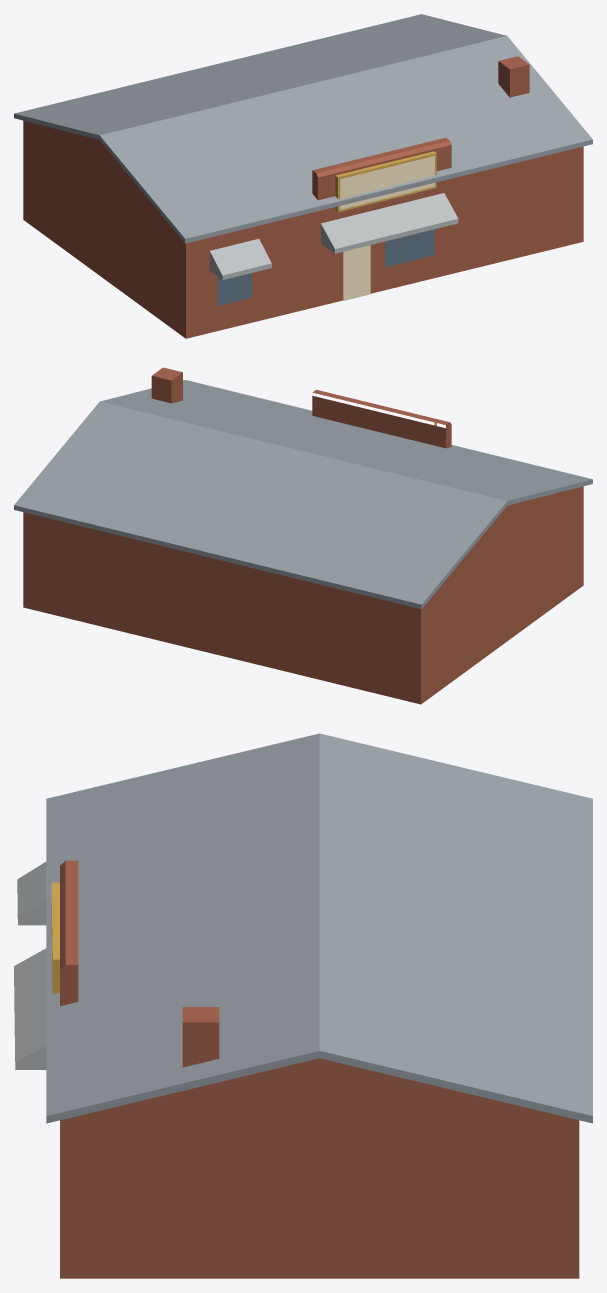
File: snug-harbor.glb
3 views of the same model, one above another, from view 1: azimuth 30°, elevation 25°; view 2: azimuth 150°, elevation 25°; view 3: azimuth 270°, elevation 25° (orthographic). The views are drawn at different scales.
Visible parts, largest first — view 1: Snug Harbor; view 2: Snug Harbor; view 3: Snug Harbor.
Boxes of the visible parts, x1,y1,x2,y2 form: Snug Harbor: (14, 14, 592, 338); Snug Harbor: (14, 367, 592, 704); Snug Harbor: (14, 733, 592, 1278).
Bounding box in the file's own units: 16.46 × 5.9 × 12.69.
